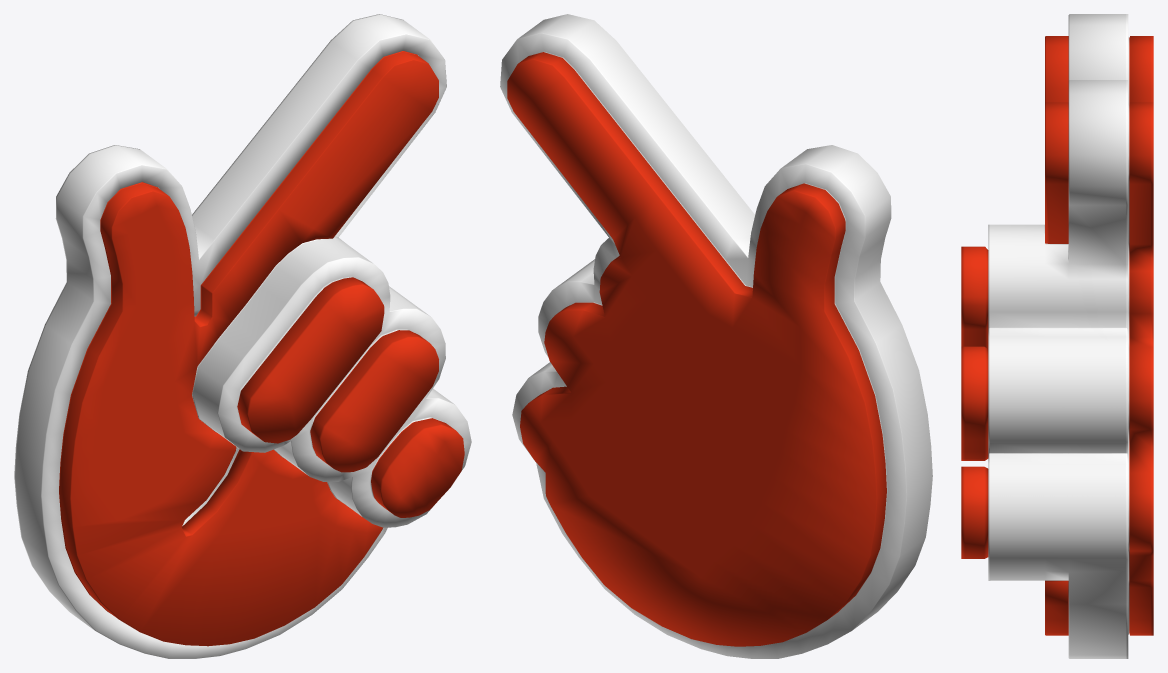
The model's file is hand-lowpoly.glb.
The picture shows the model from 3 angles, left to right: view 1: azimuth 30°, elevation 25°; view 2: azimuth 150°, elevation 25°; view 3: azimuth 270°, elevation 25°; orthographic projection. The views are drawn at different scales.
Parts seen in each view (by area): view 1: ClickMarkHand; view 2: ClickMarkHand; view 3: ClickMarkHand.
Part boxes in pixels (x1,y1,x2,y2): ClickMarkHand: (14,14,471,658); ClickMarkHand: (500,14,932,658); ClickMarkHand: (961,14,1153,658).
Bounding box in the file's own units: 2.83 × 3.85 × 1.06.
Materials: 1 (1 with a texture image).
